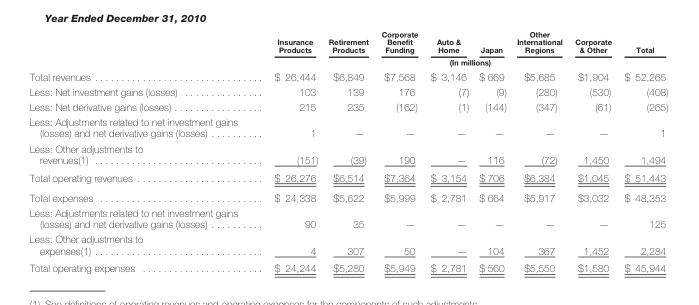table: (28, 29, 667, 274)
table column: (28, 29, 255, 274), (255, 29, 322, 274), (511, 29, 567, 274), (322, 29, 374, 274), (423, 29, 473, 274), (567, 29, 617, 274), (617, 29, 667, 274), (374, 29, 423, 274), (473, 29, 511, 274)
table column header: (28, 29, 667, 68)
table row: (28, 140, 667, 168), (28, 231, 667, 259), (28, 204, 667, 231), (28, 29, 667, 55), (28, 114, 667, 140), (28, 168, 667, 187), (28, 187, 667, 204), (28, 98, 667, 114), (28, 68, 667, 83), (28, 83, 667, 98), (28, 259, 667, 274), (28, 55, 667, 68)
table spanning cell: (255, 55, 667, 68)
